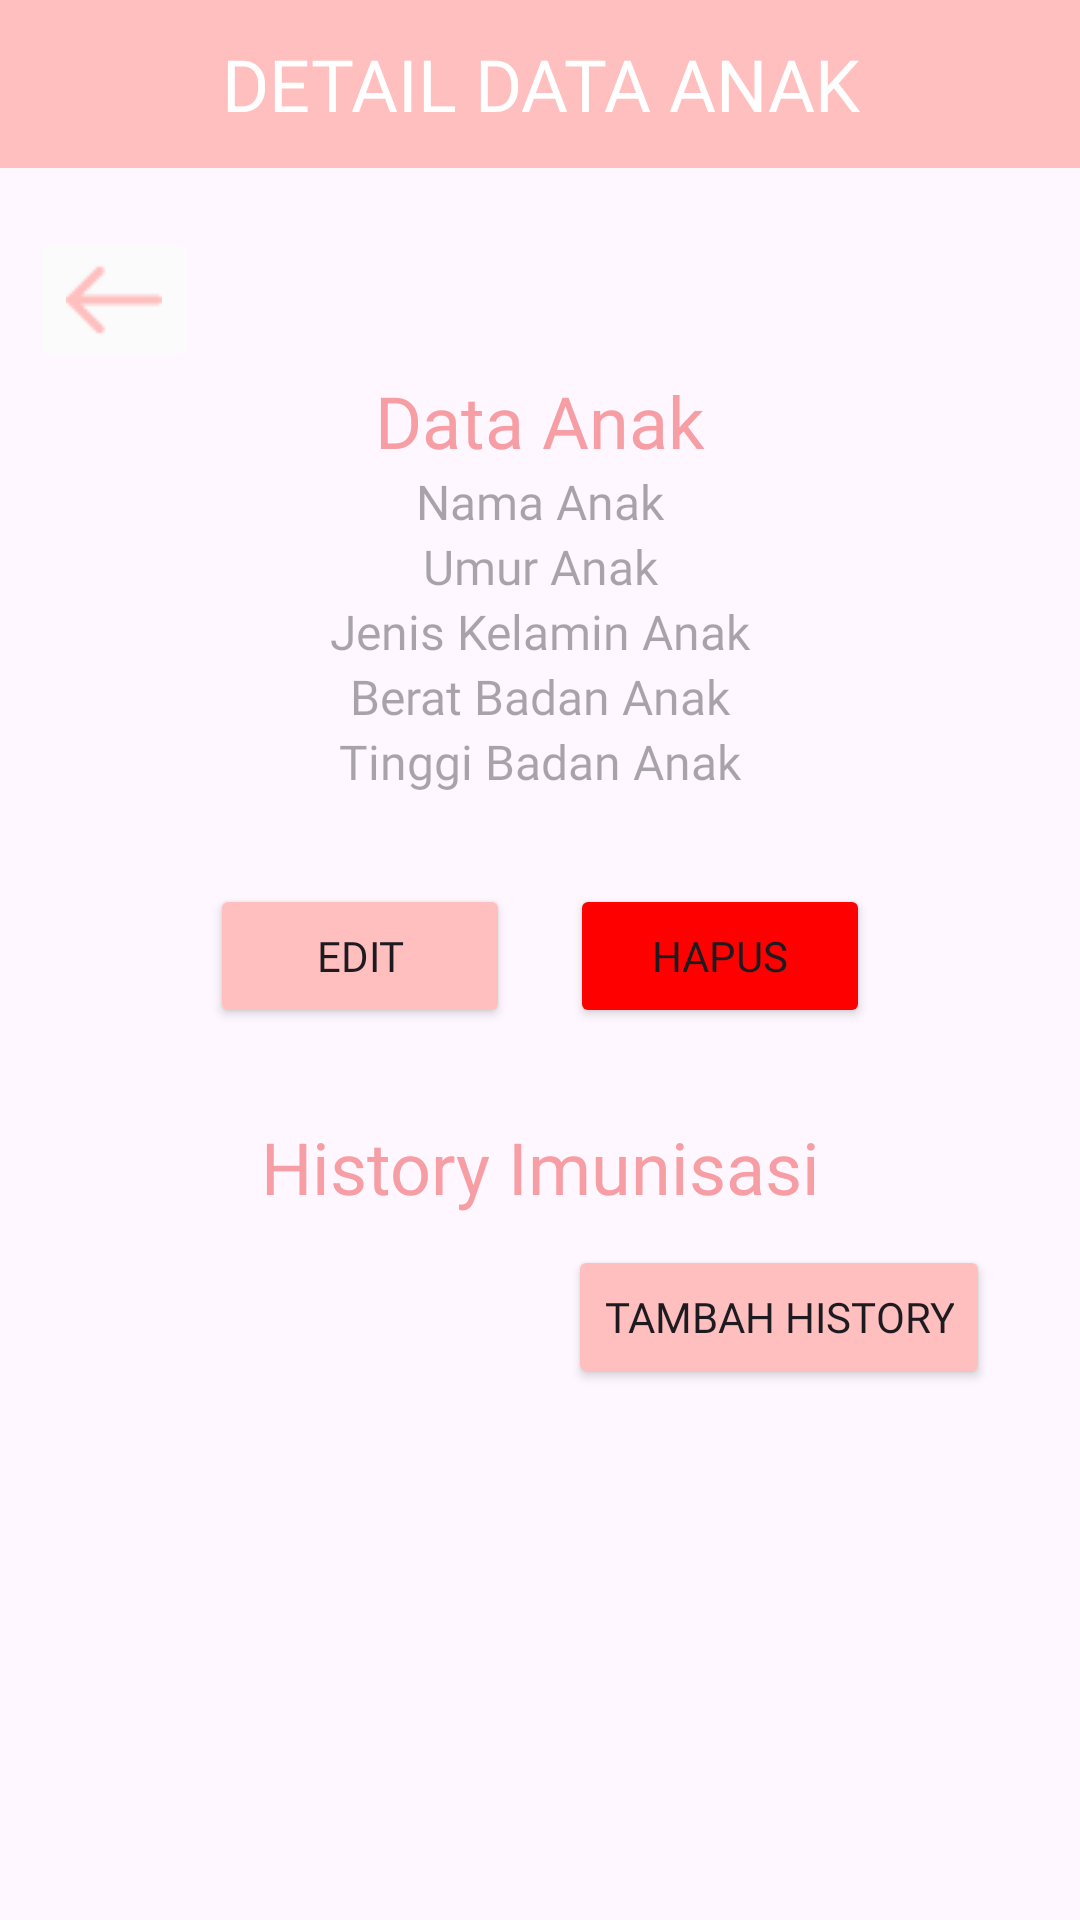

Screen size 1080×1920. Icon name, then its center in pixels as point (x, y):
Back: point (114, 300)
